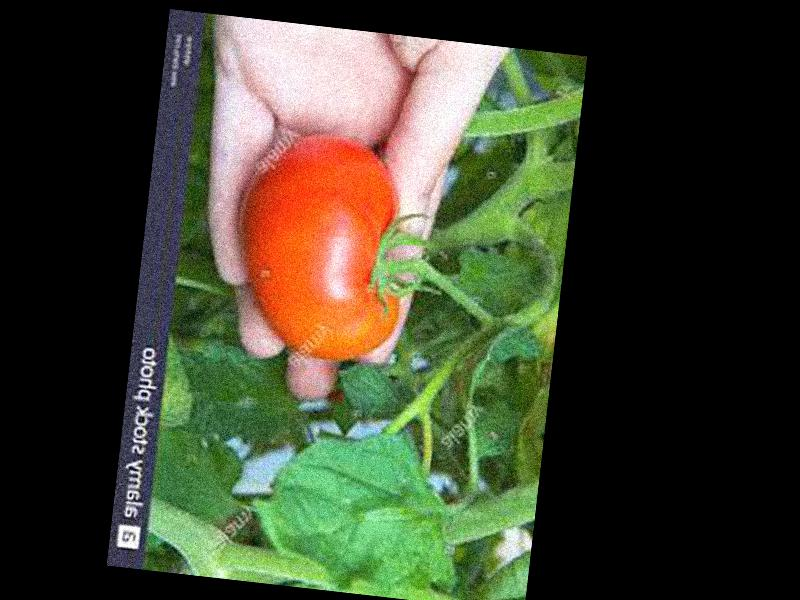Tomato: (230, 125, 417, 366)
